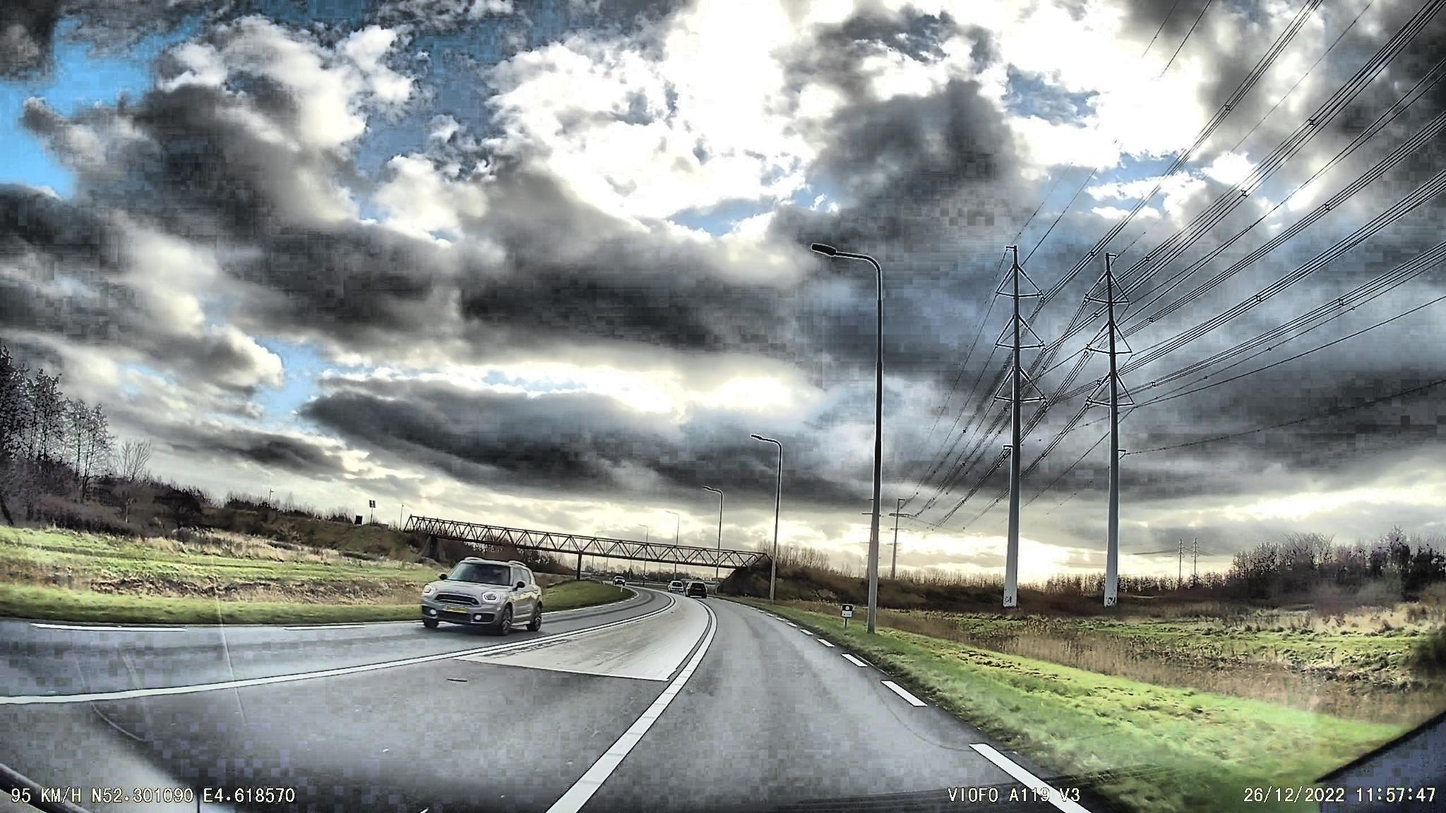Roads: (0, 593, 1104, 813)
